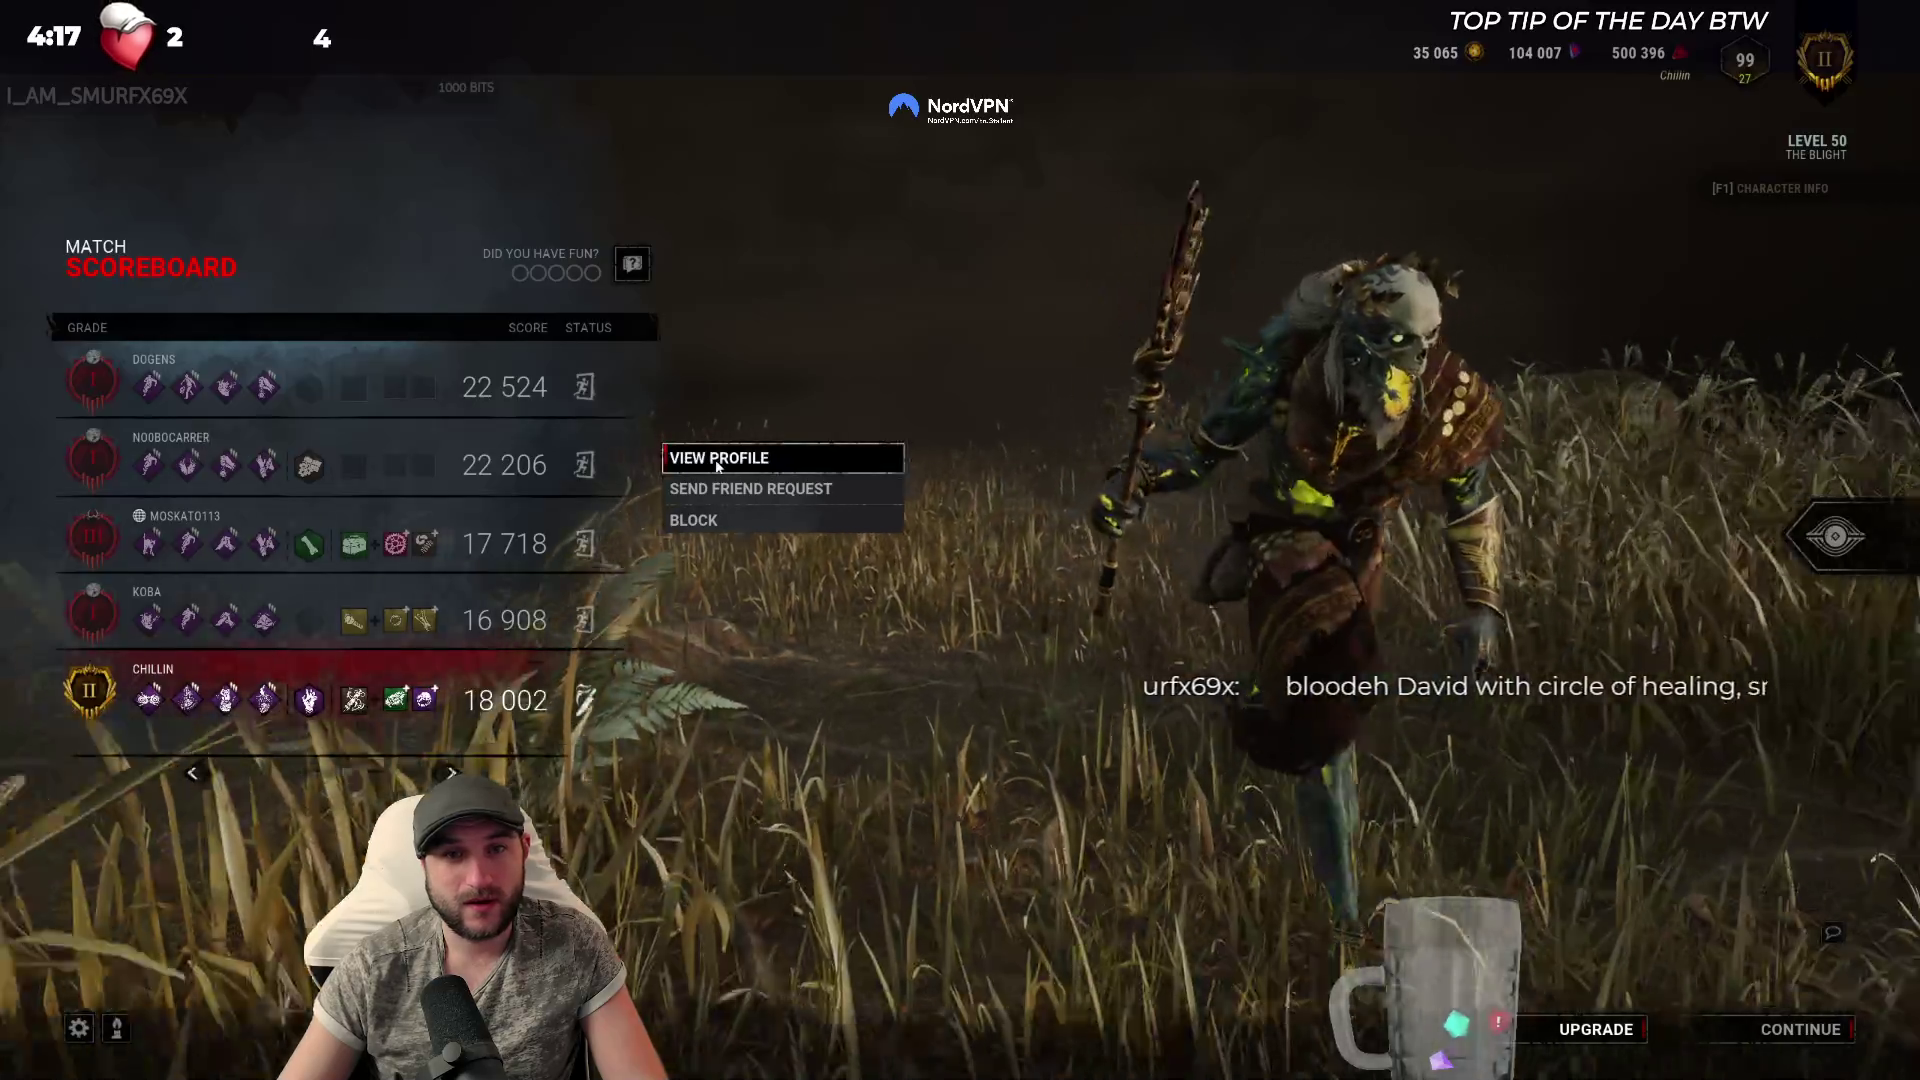adrenaline: (208, 369, 243, 404), (131, 603, 165, 637)
borrowed_time: (207, 447, 243, 483), (245, 369, 280, 404)
dead_hard: (169, 525, 204, 560), (131, 369, 166, 404), (131, 444, 165, 480), (169, 603, 204, 637)
decisive_strike: (208, 525, 243, 560), (208, 603, 243, 637)
eruption: (247, 682, 281, 717)
hope: (170, 446, 204, 481)
iron_will: (247, 603, 281, 637)
pop_goes_the_weasel: (207, 682, 243, 717)
scourage_hook:pain_resonance: (169, 682, 204, 717)
self_care: (247, 447, 281, 483), (247, 526, 281, 560)
shadowborn: (131, 682, 166, 717)
spine_chill: (131, 525, 165, 560)
were_gonna_live_forever: (167, 368, 203, 404)
